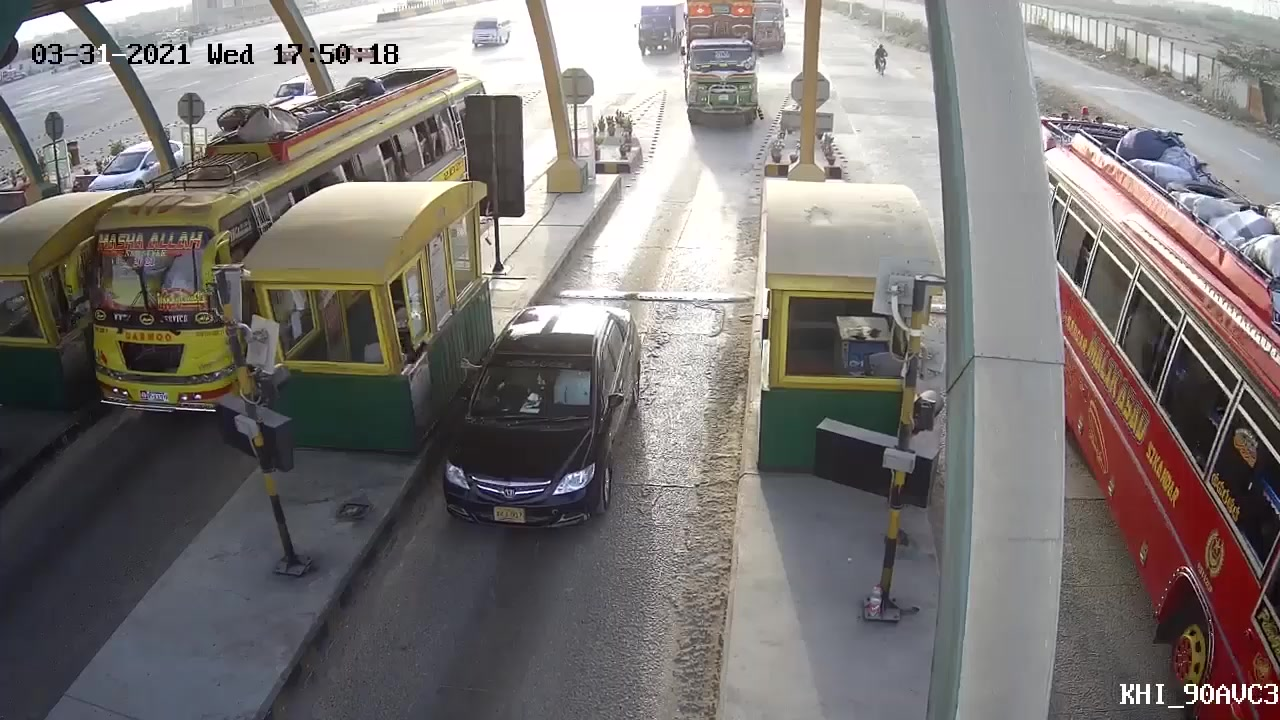F1: (438, 300, 644, 535)
